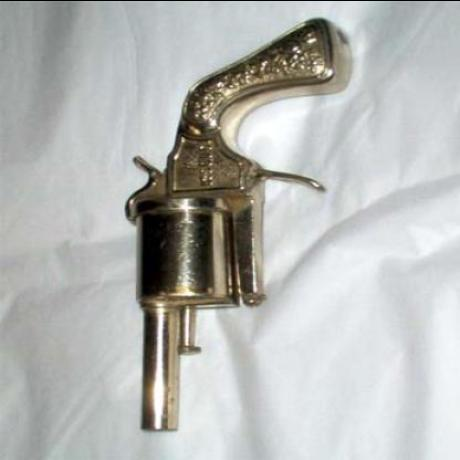weapon: (122, 14, 362, 434)
